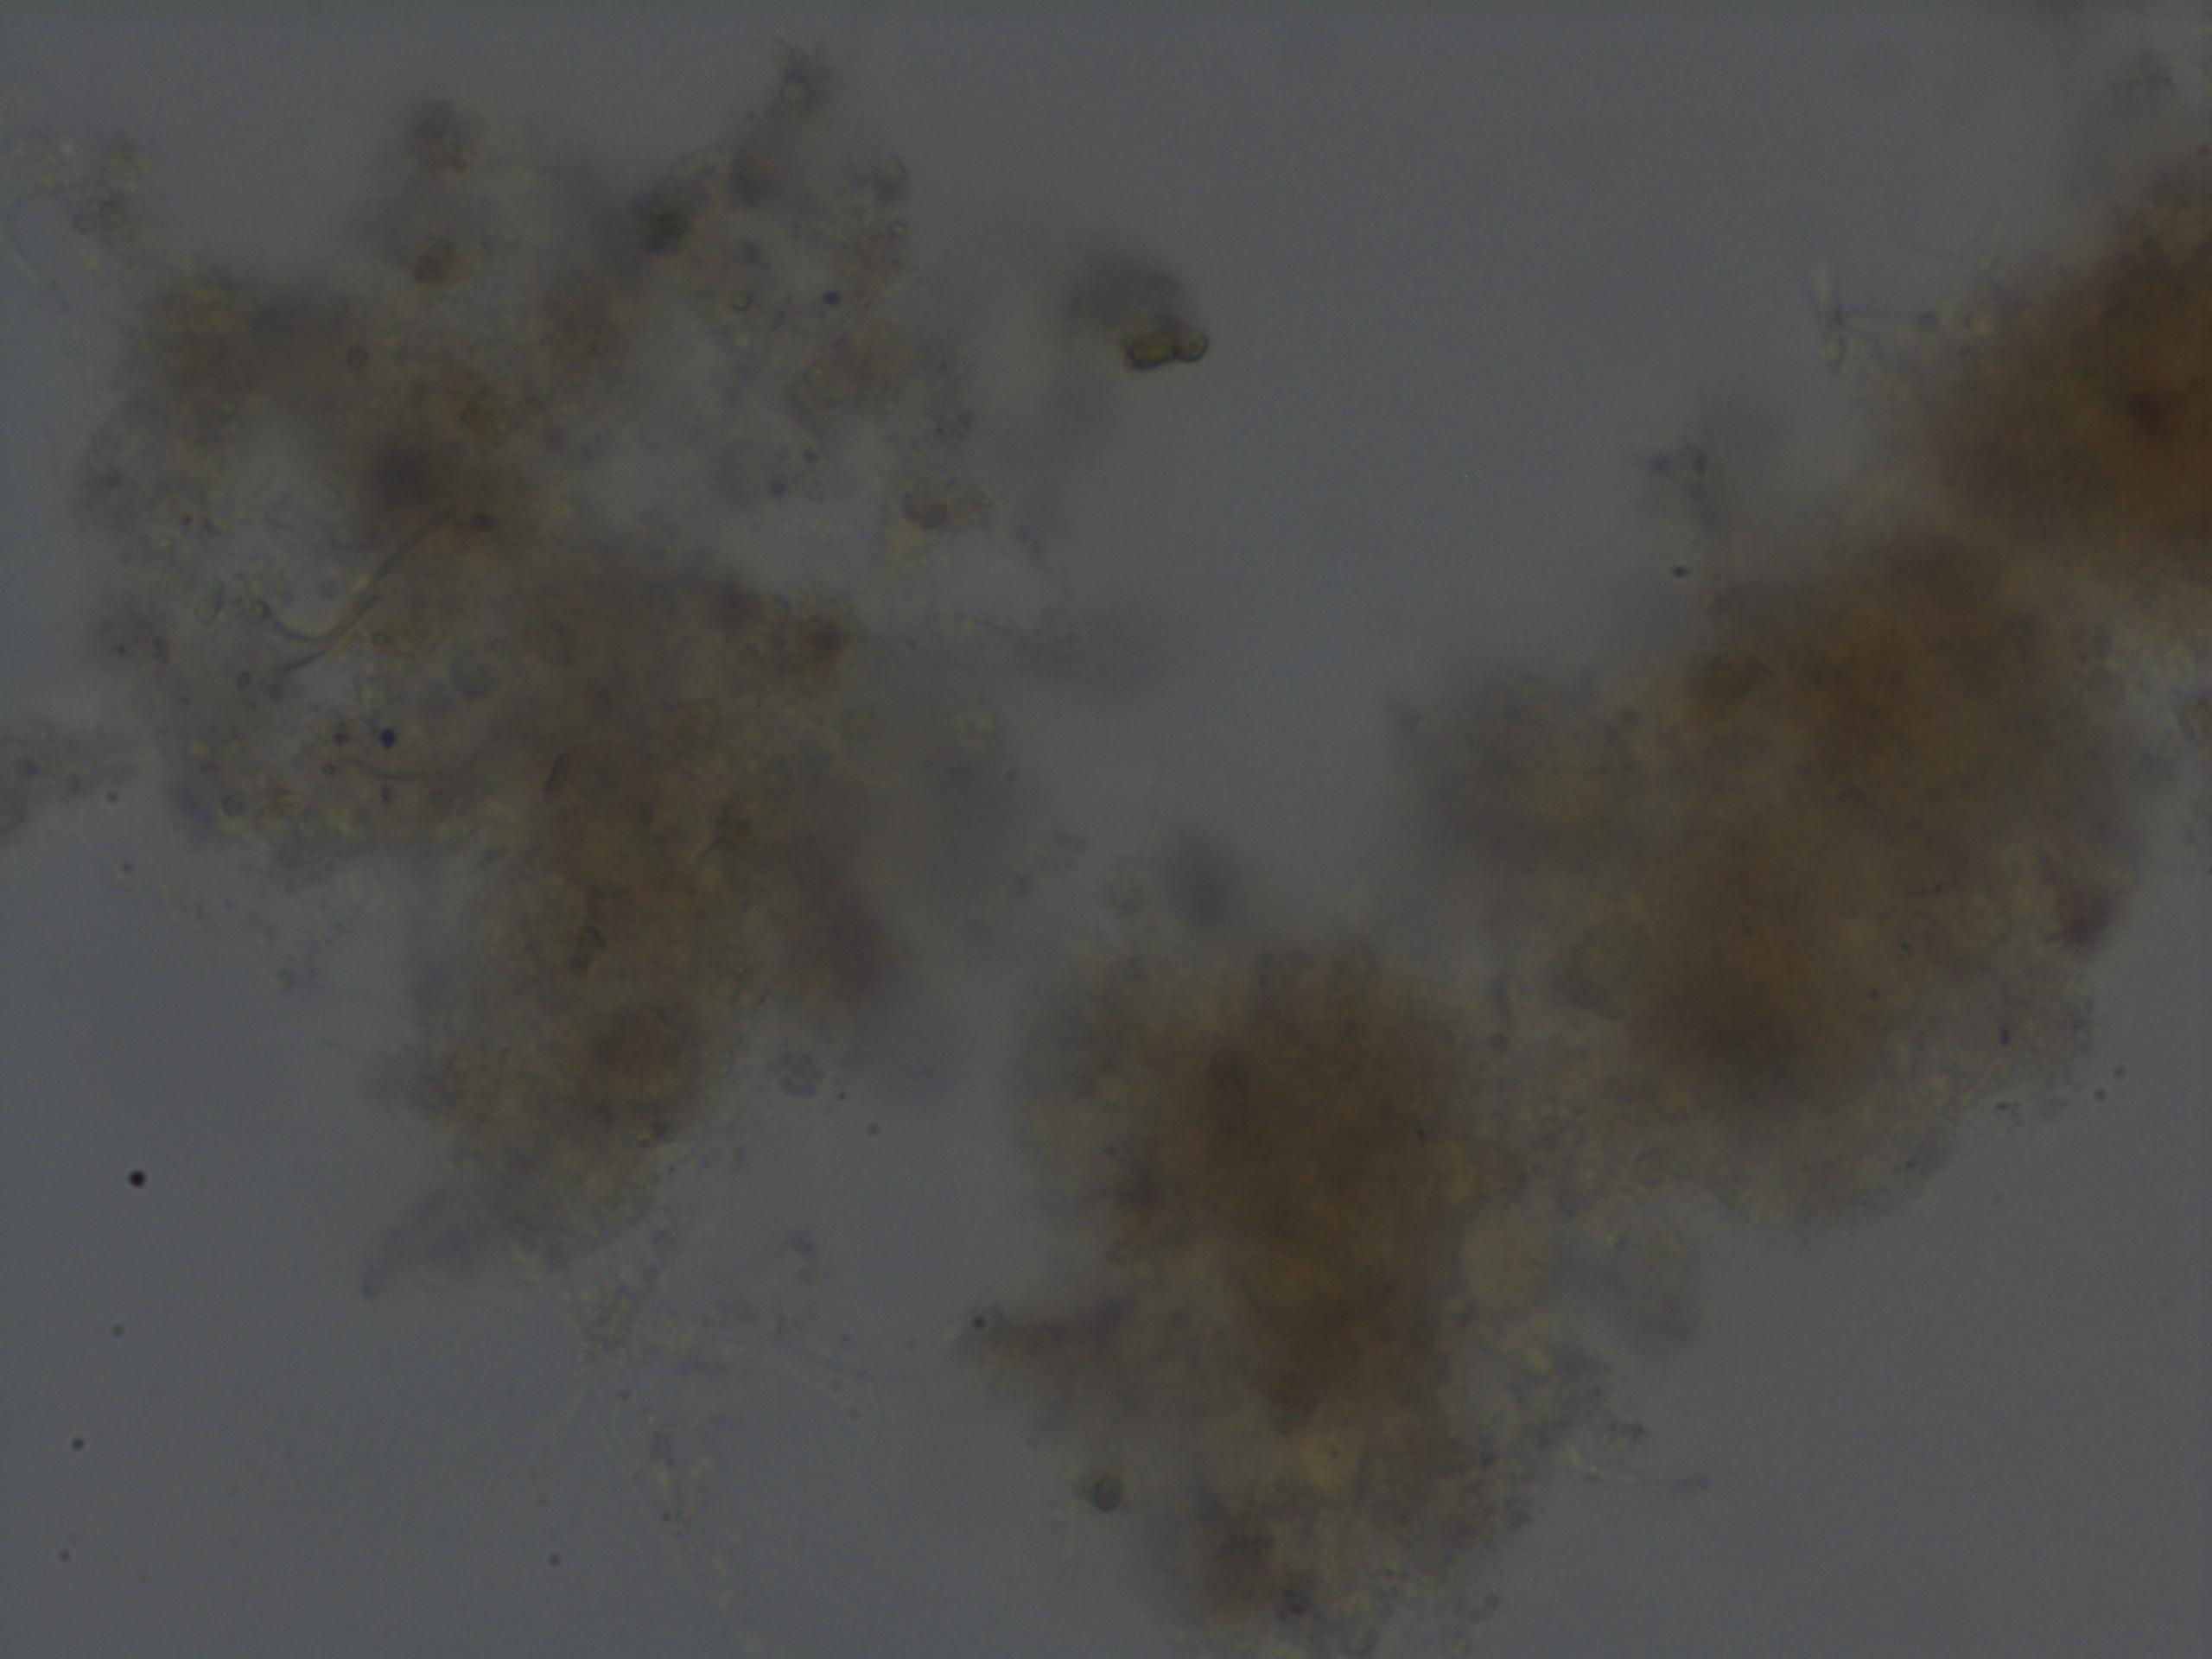open_floc: (0, 23, 2212, 1659)
